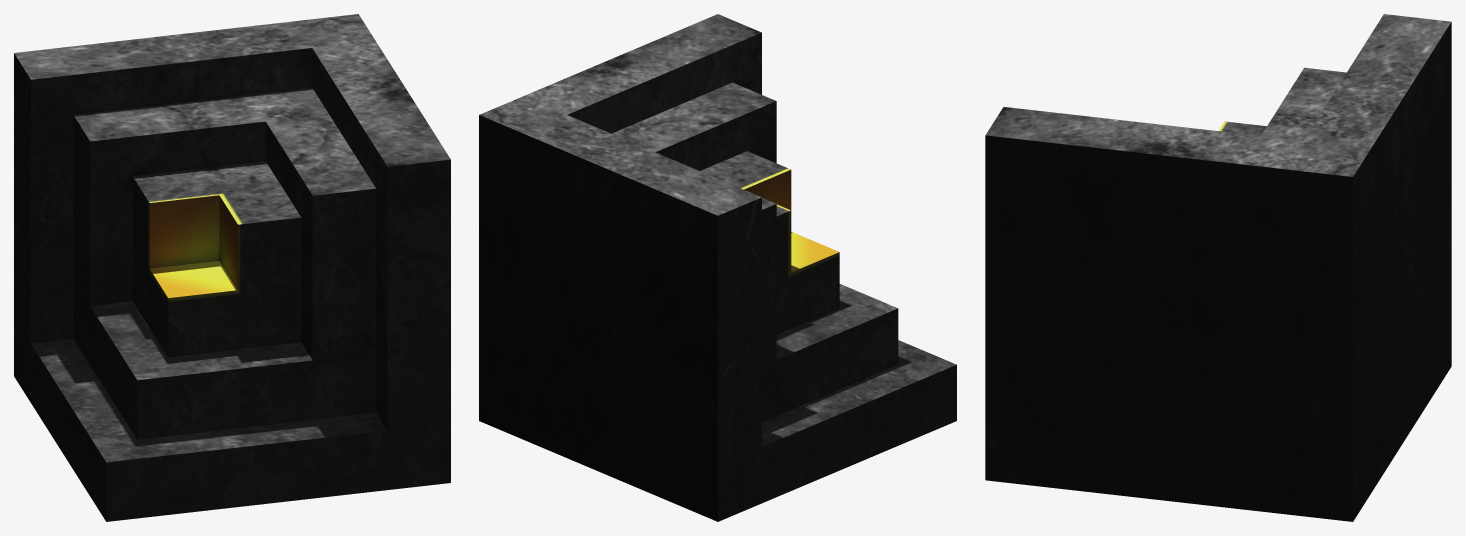
3 views of the same model, side by side, from view 1: azimuth 30°, elevation 25°; view 2: azimuth 150°, elevation 25°; view 3: azimuth 270°, elevation 25° (orthographic). The views are drawn at different scales.
Visible parts, largest first — view 1: Center_Cut_Cube; view 2: Center_Cut_Cube; view 3: Center_Cut_Cube.
Part boxes in pixels (x1,y1,x2,y2): Center_Cut_Cube: (14,14,450,521); Center_Cut_Cube: (479,14,956,521); Center_Cut_Cube: (985,14,1451,521).
Size of the model in its own units: 36.81 by 30.06 by 36.81.
Materials: 1 (1 with a texture image).
